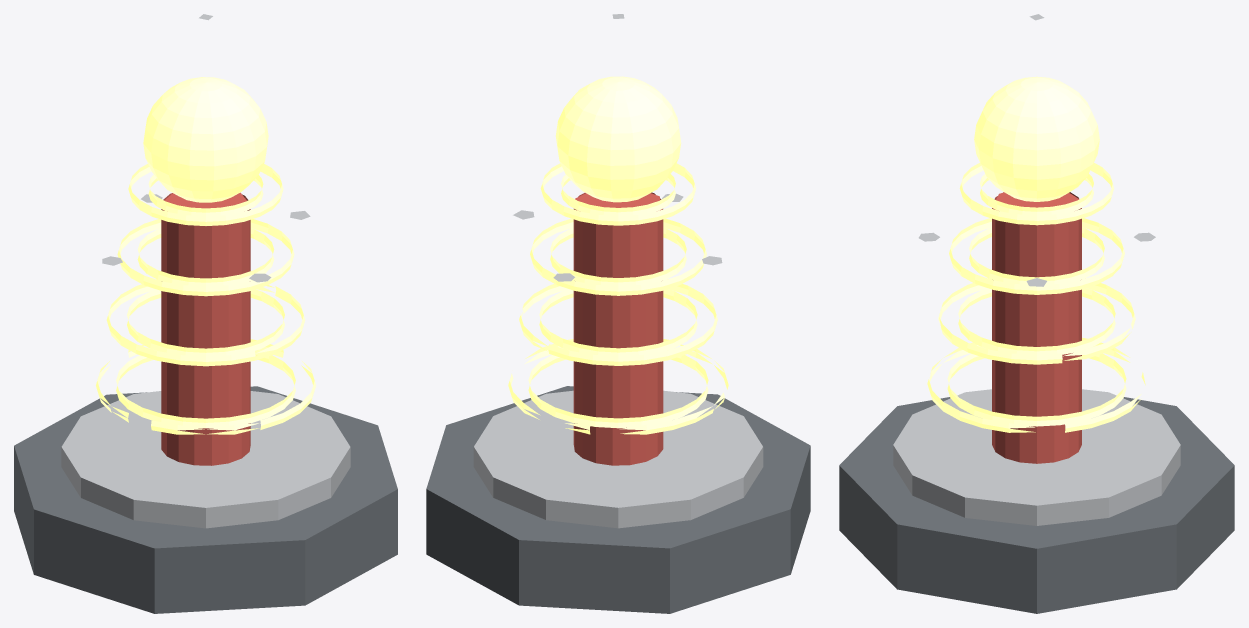
Rendered from converted_test_tesla_1791454662345.glb.
The picture shows the model from 3 angles, left to right: view 1: azimuth 30°, elevation 25°; view 2: azimuth 150°, elevation 25°; view 3: azimuth 270°, elevation 25°; orthographic projection.
Visible parts, largest first — view 1: Soviet_Tesla_coil; view 2: Soviet_Tesla_coil; view 3: Soviet_Tesla_coil.
Part boxes in pixels (<box>): Soviet_Tesla_coil: <box>14,14,397,613</box>; Soviet_Tesla_coil: <box>426,14,810,613</box>; Soviet_Tesla_coil: <box>839,14,1234,613</box>.
Bounding box in the file's own units: 4.4 × 6.3 × 4.4.
